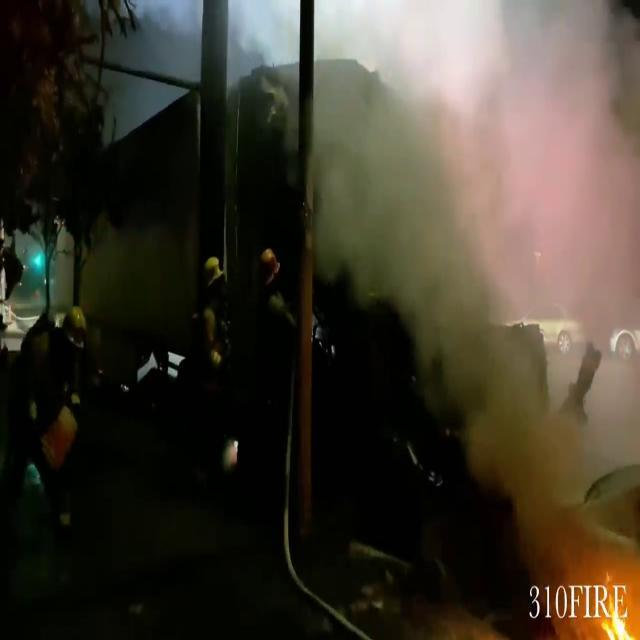Fire: (593, 584, 640, 640)
Smoke: (332, 0, 640, 554)
